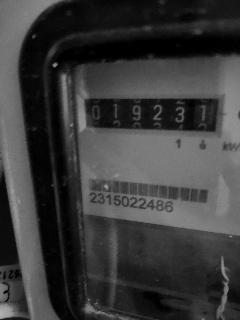1: (92, 106, 100, 120)
2: (198, 105, 210, 121), (111, 104, 121, 119)
3: (153, 105, 164, 120)
4: (175, 107, 185, 123)
:: (132, 106, 142, 121)
